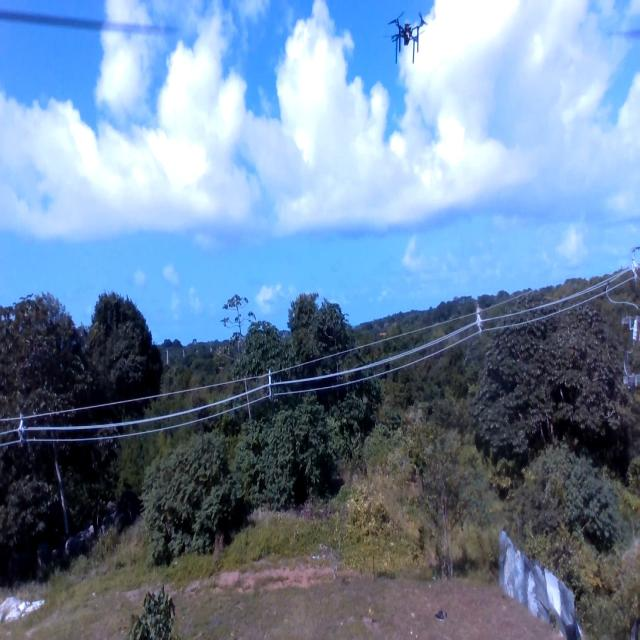-uav-: (385, 5, 431, 70)
